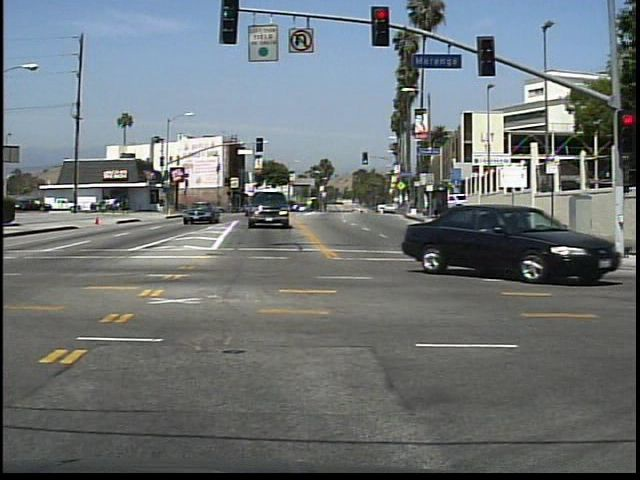person: (122, 195, 133, 219)
